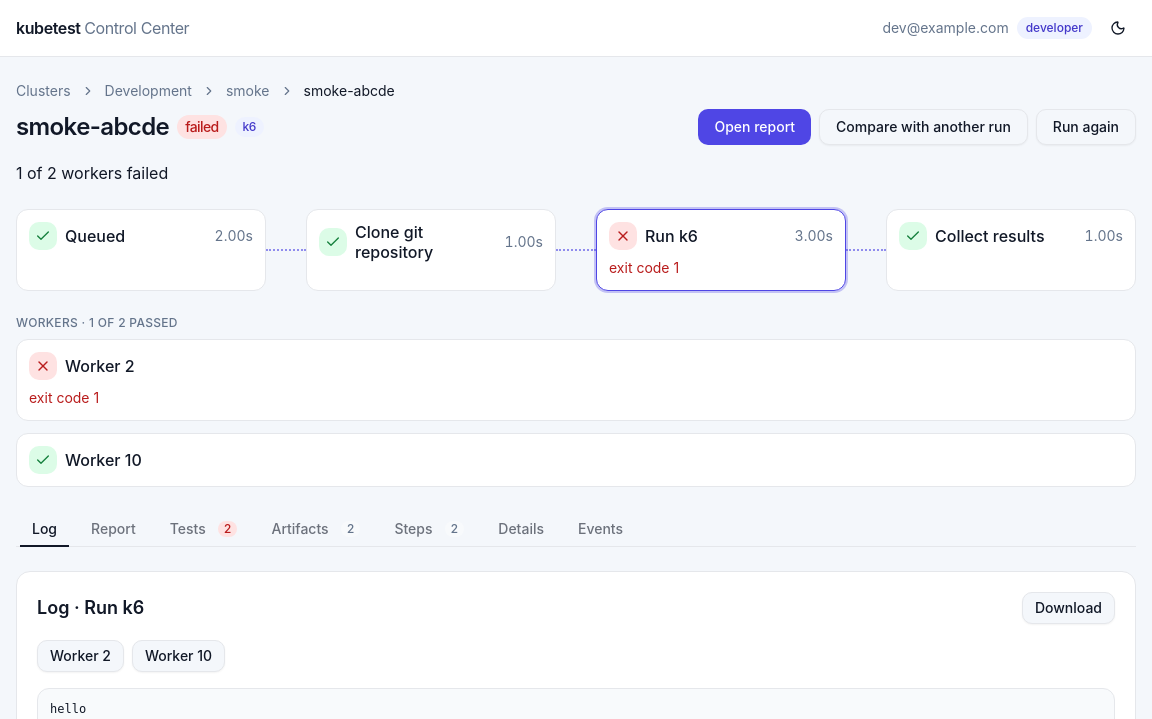
it: run page › says why it couldn't run again
Click the button "Run again" at (1086,127), box [1036, 109, 1136, 145]
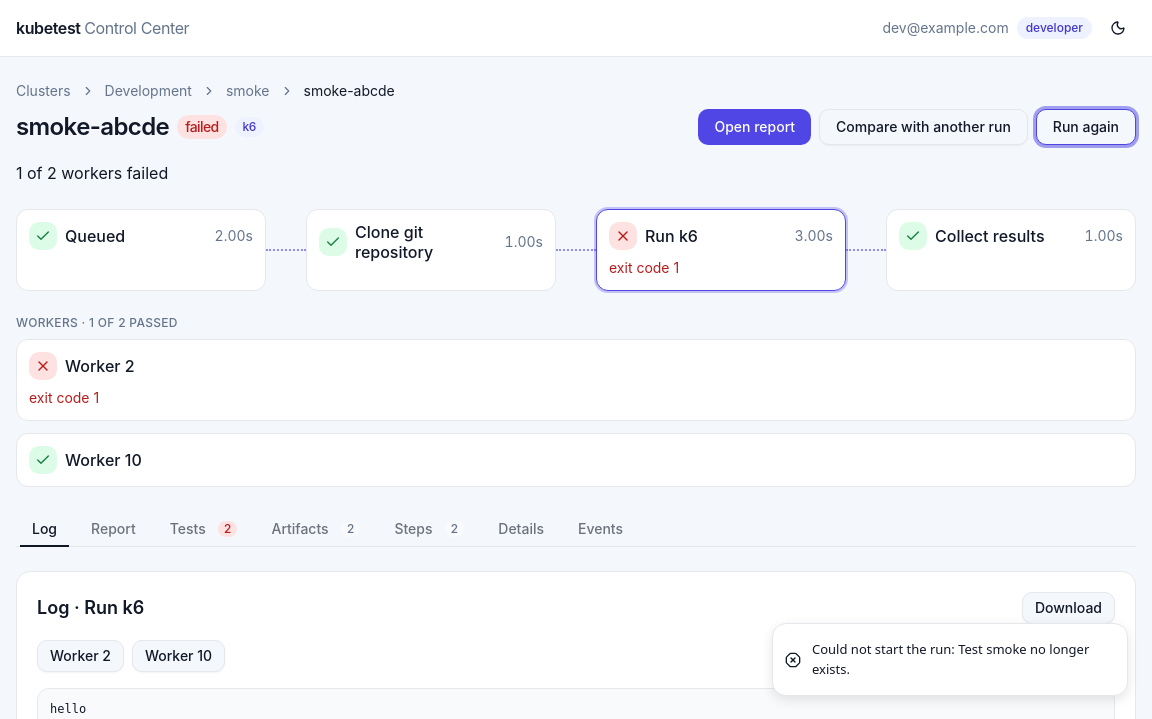
Expected: the text "Could not start the run: Test smoke no longer exists." is shown, [812, 640, 1111, 679]
